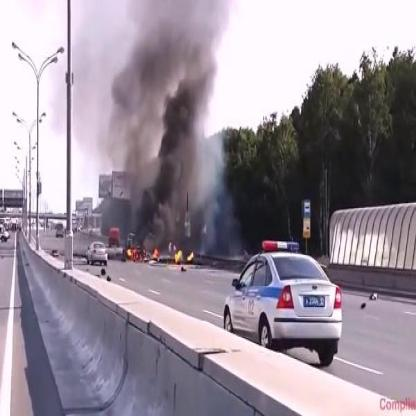fire: (126, 242, 160, 262), (172, 246, 196, 265)
